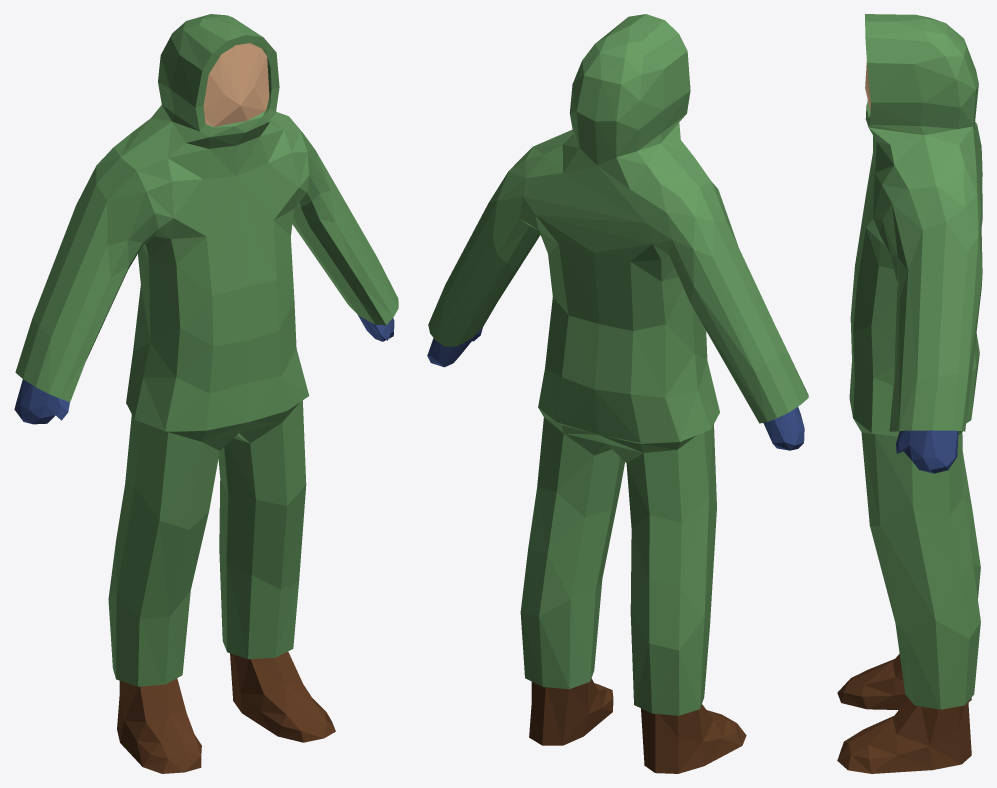
File: player.fbx
The picture shows the model from 3 angles, left to right: view 1: azimuth 30°, elevation 25°; view 2: azimuth 150°, elevation 25°; view 3: azimuth 270°, elevation 25°; orthographic projection.
Parts seen in each view (by area): view 1: Cube; view 2: Cube; view 3: Cube.
Boxes of the visible parts, x1,y1,x2,y2 form: Cube: (14,14,398,773); Cube: (427,14,808,773); Cube: (837,14,982,773).
Bounding box in the file's own units: 103 × 188 × 34.85.
